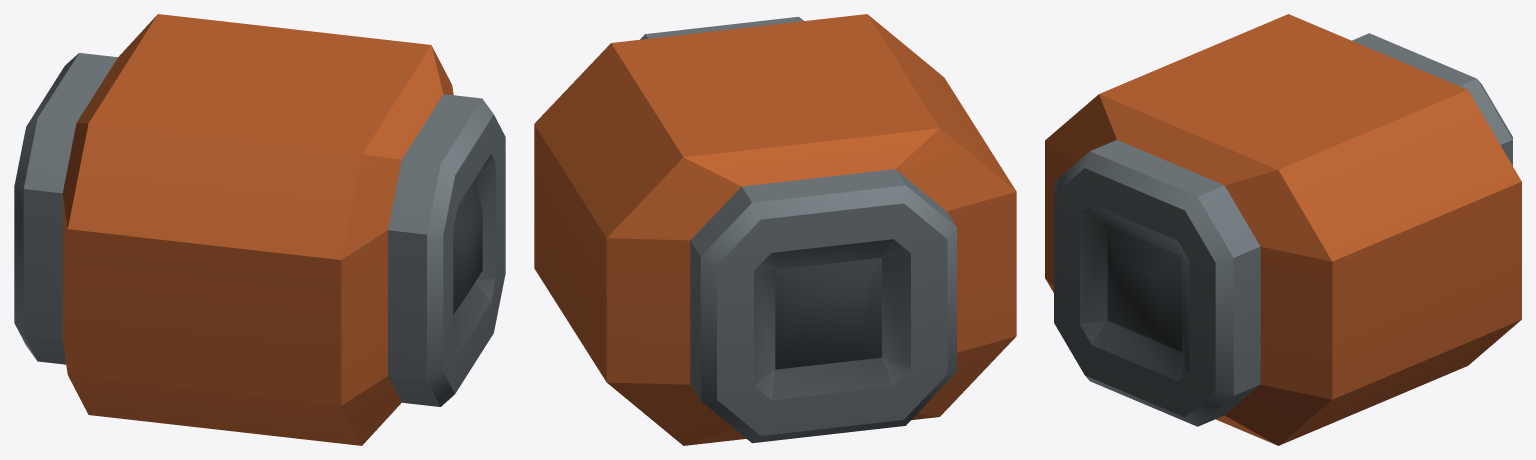
The model's file is space-tunnel-diagonal-short-b.glb.
3 renders of one model, left to right at view 1: azimuth 30°, elevation 25°; view 2: azimuth 150°, elevation 25°; view 3: azimuth 270°, elevation 25°, orthographic. The views are drawn at different scales.
Parts seen in each view (by area): view 1: tunnel_diagonal_short_B; view 2: tunnel_diagonal_short_B; view 3: tunnel_diagonal_short_B.
Part boxes in pixels (x1,y1,x2,y2): tunnel_diagonal_short_B: [14, 14, 505, 445]; tunnel_diagonal_short_B: [534, 14, 1016, 445]; tunnel_diagonal_short_B: [1045, 14, 1521, 445].
Size of the model in its own units: 0.939 by 0.6 by 0.939.
